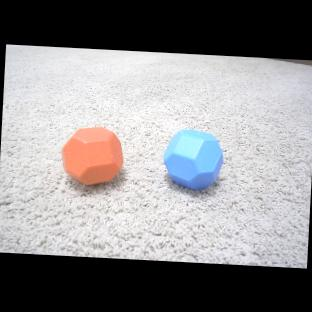V5_BLUE: (162, 128, 223, 192)
V5_RED: (61, 126, 125, 187)
